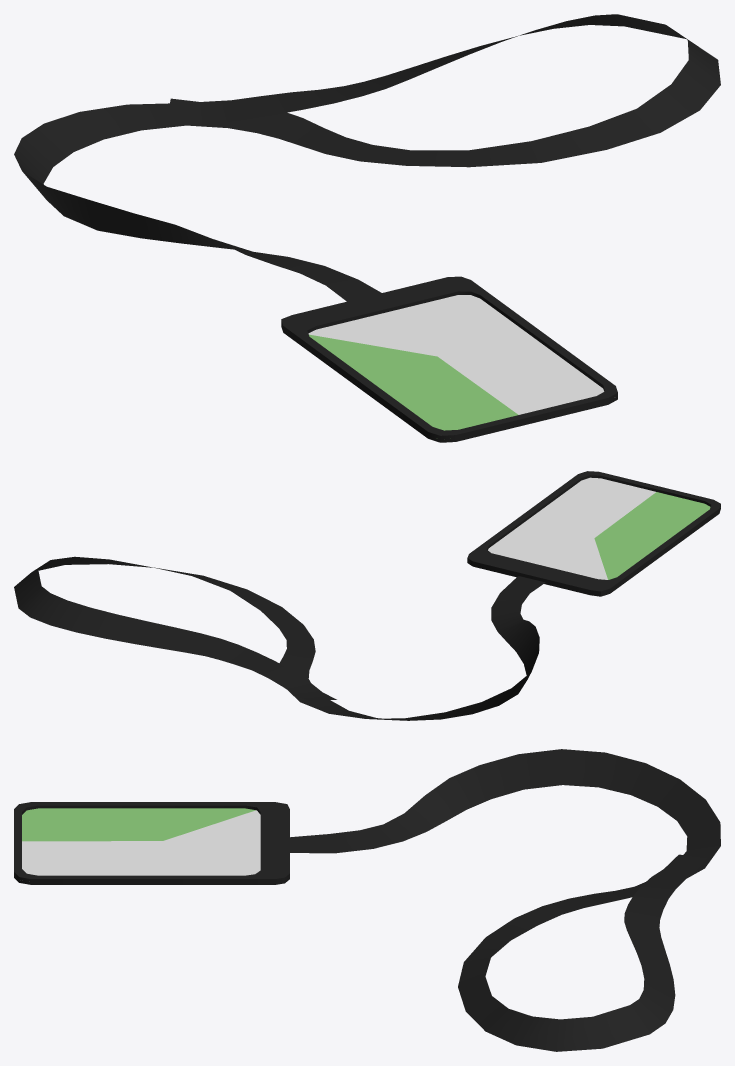
The model's file is keycard.fbx.
3 renders of one model, top to bottom at view 1: azimuth 30°, elevation 25°; view 2: azimuth 150°, elevation 25°; view 3: azimuth 270°, elevation 25°, orthographic. The views are drawn at different scales.
Visible parts, largest first — view 1: keycard; view 2: keycard; view 3: keycard.
Part boxes in pixels (x1,y1,x2,y2): keycard: (14,14,720,442); keycard: (14,471,720,720); keycard: (14,749,720,1051).
Bounding box in the file's own units: 50.43 × 3.03 × 54.92.
